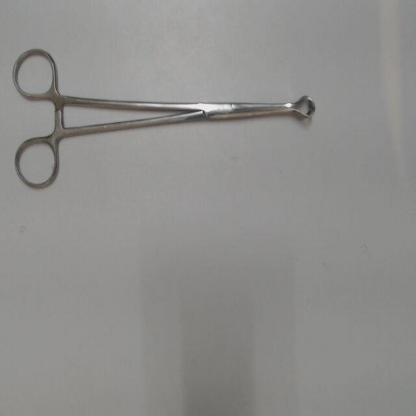8 Babcock Tissue Forceps: (11, 39, 322, 192)
